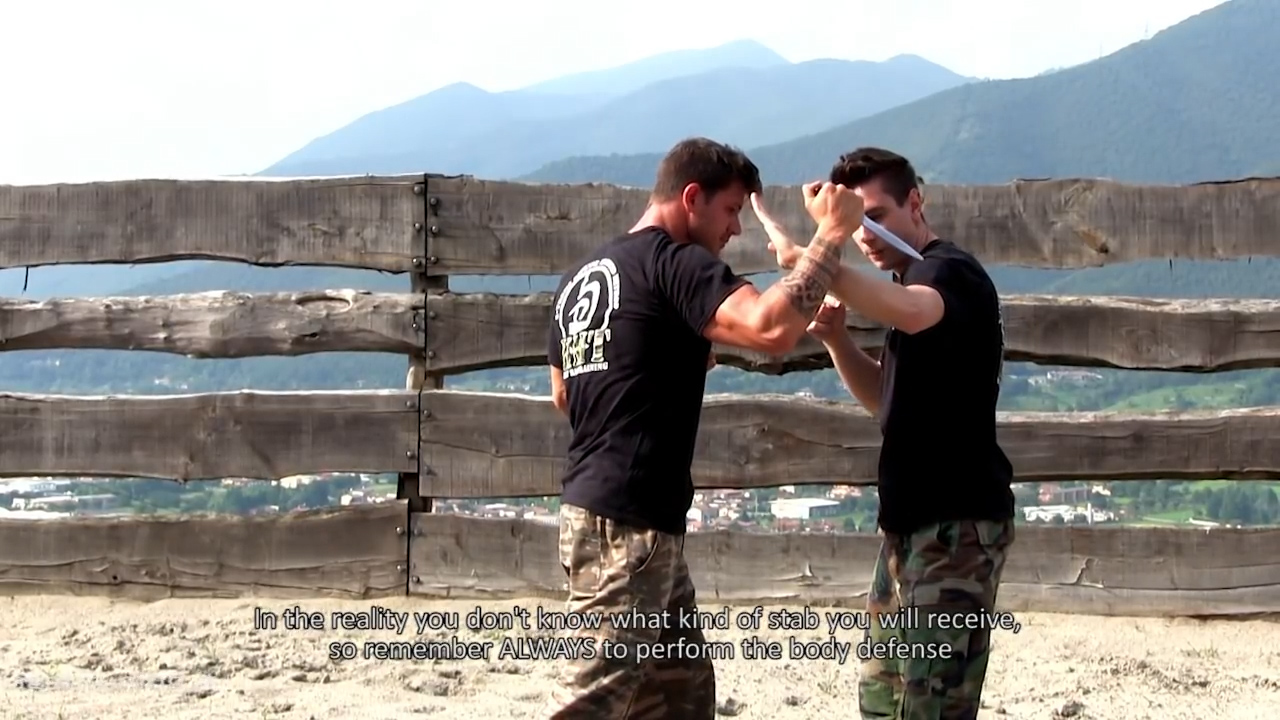knife: (800, 179, 930, 264)
